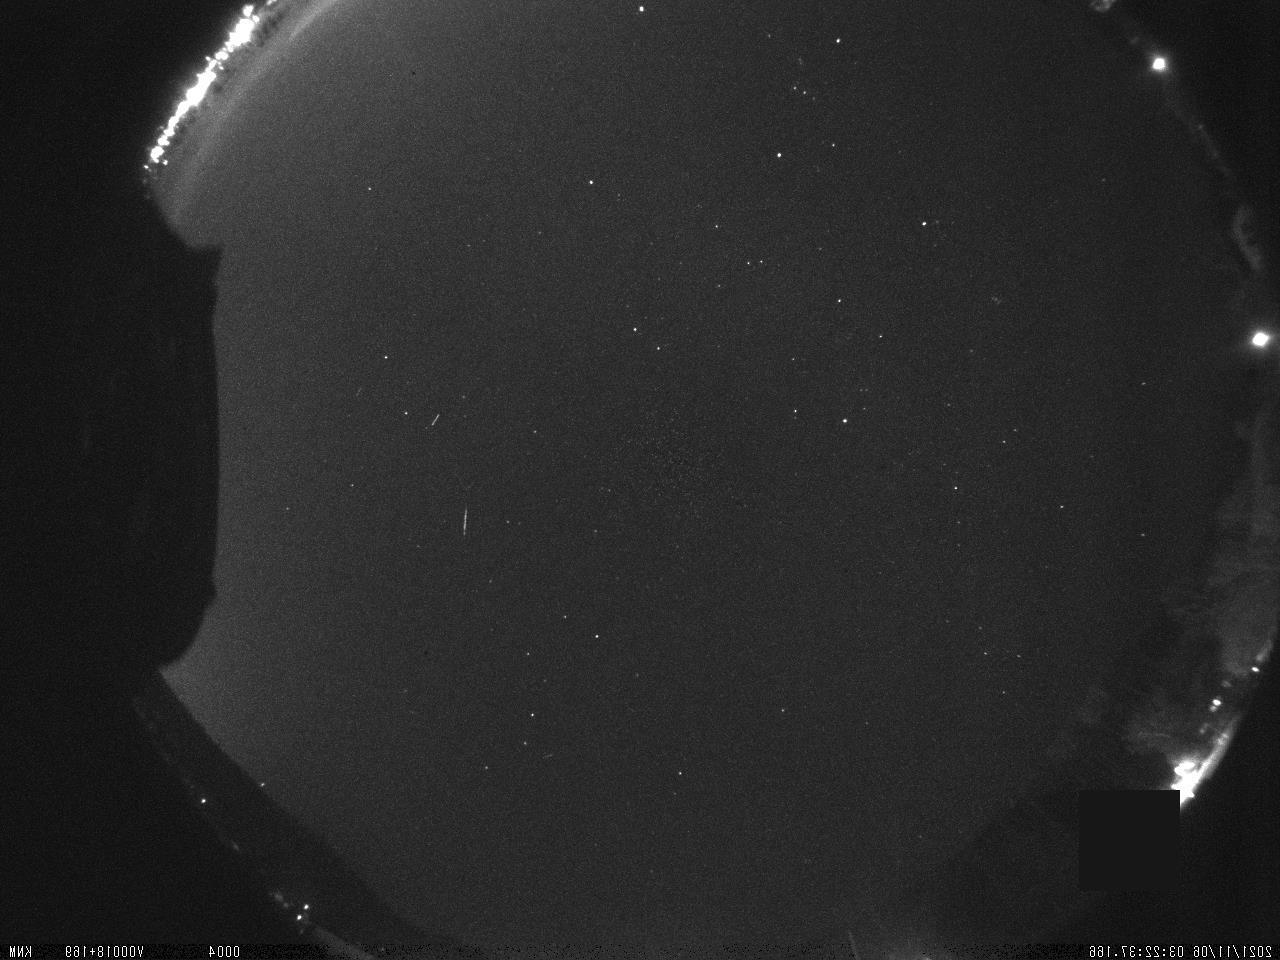meteor: (455, 498, 475, 543)
